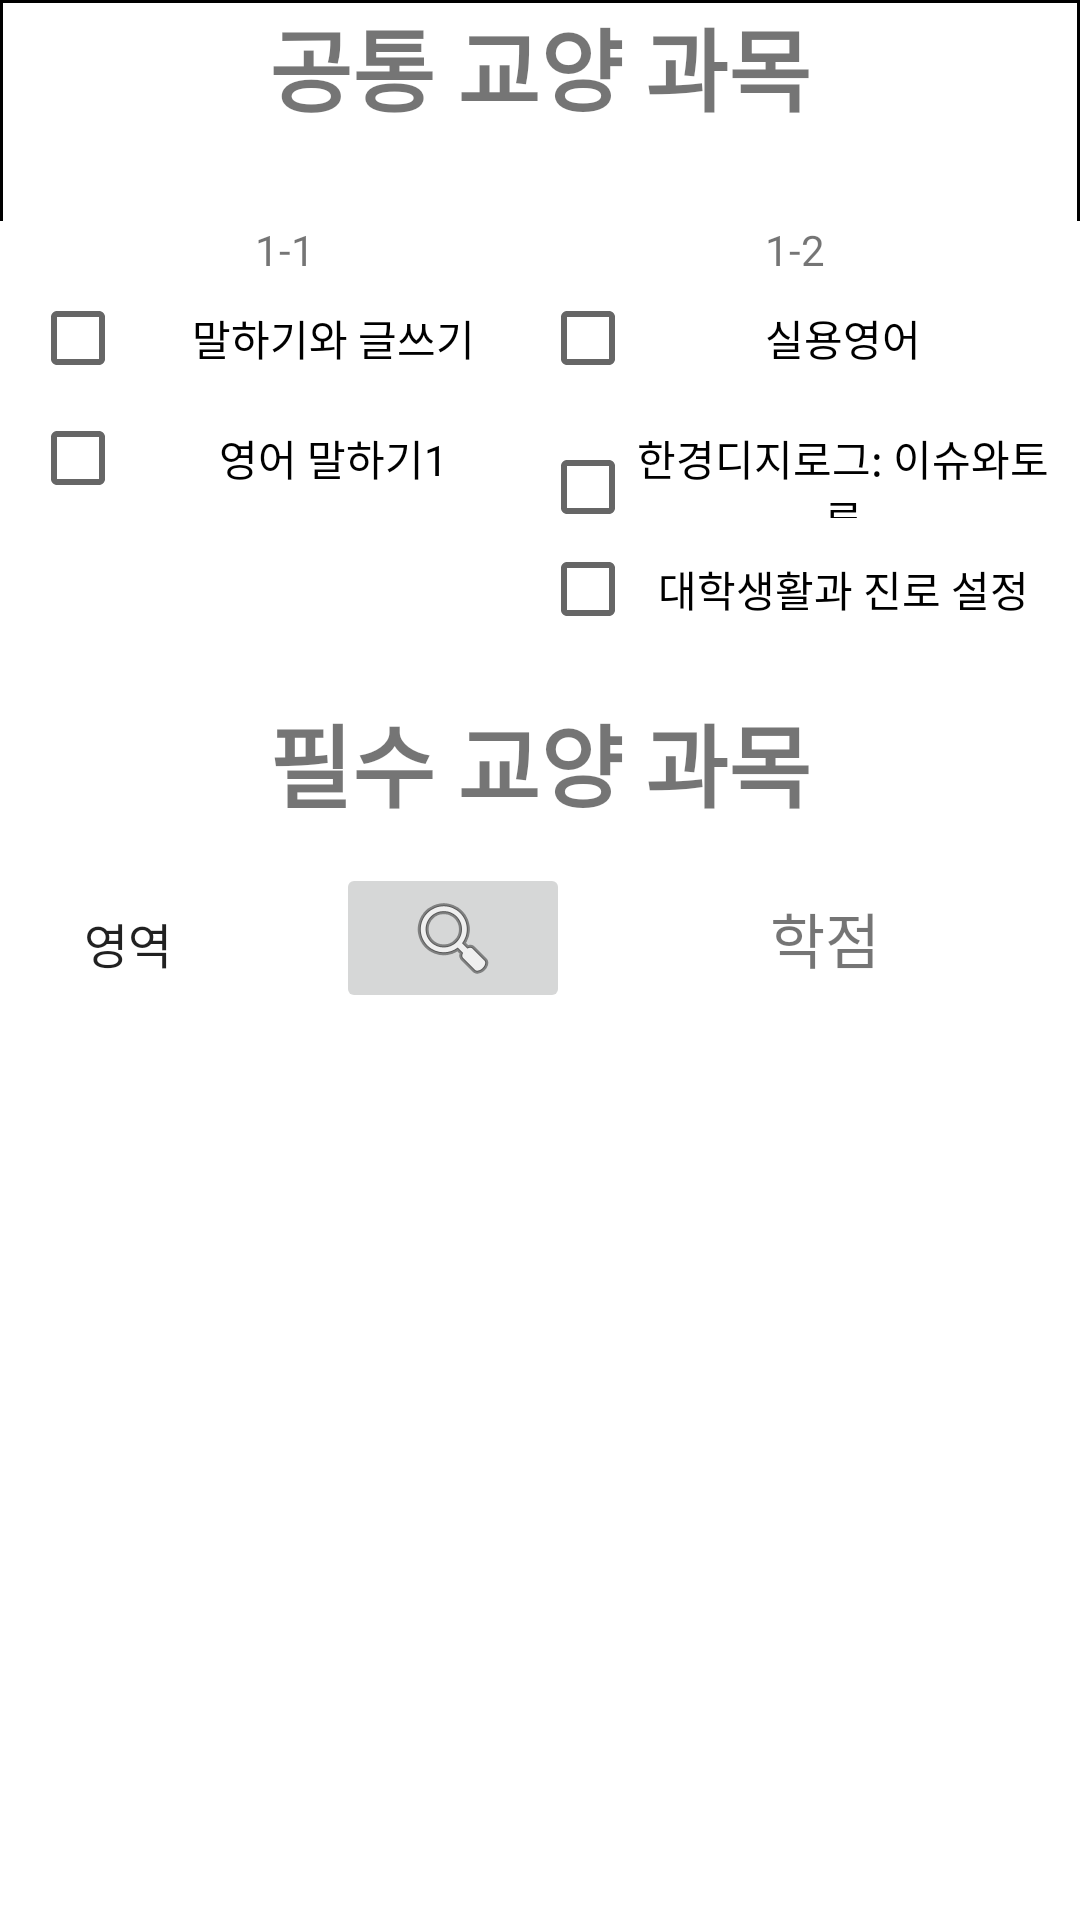

Icon bounding boxes for this 1080x1920 phone screenshot, format (x1, y1, x2, y2):
search: (348, 881, 558, 995)
